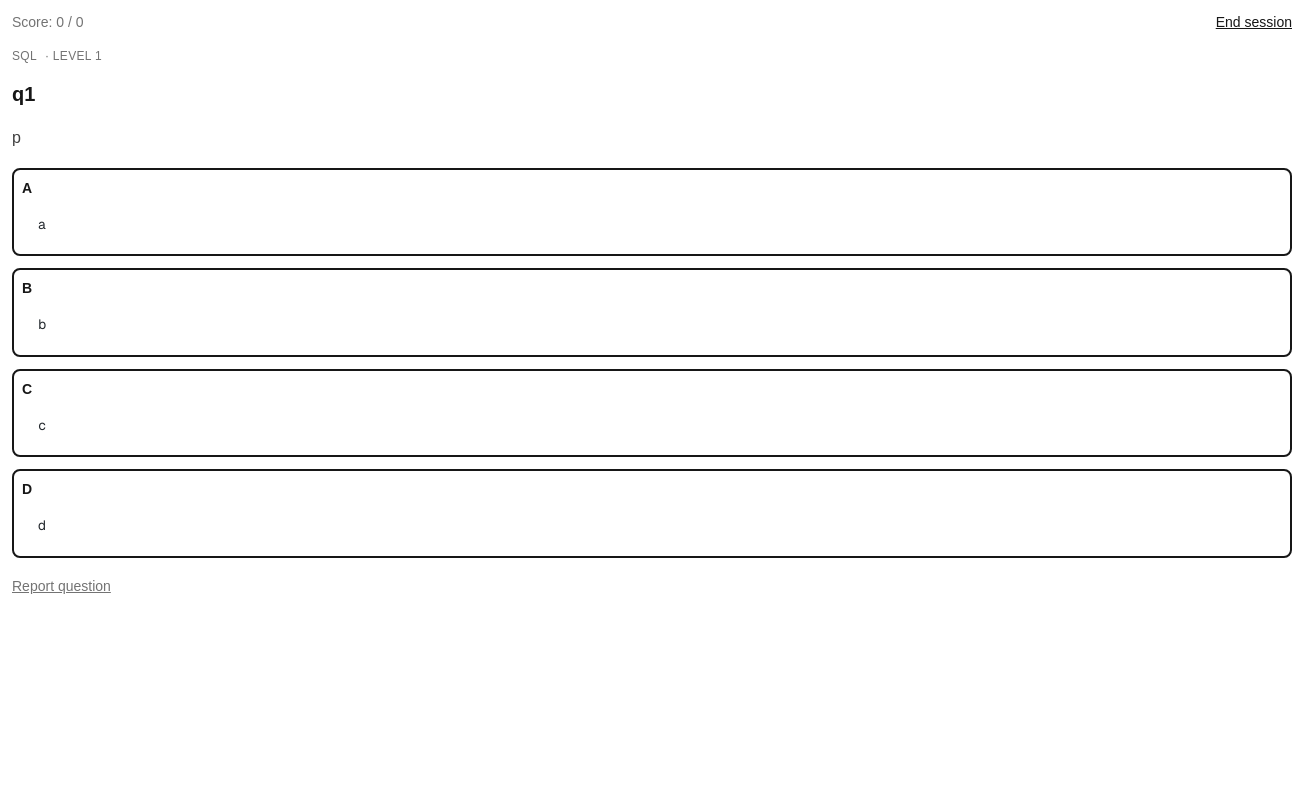
it: shows retry on submit failure and recovers
Expected: the heading "q1" is shown, [12,83,35,105]
Click the button named "Option": (652, 212) [12,168,1292,256]
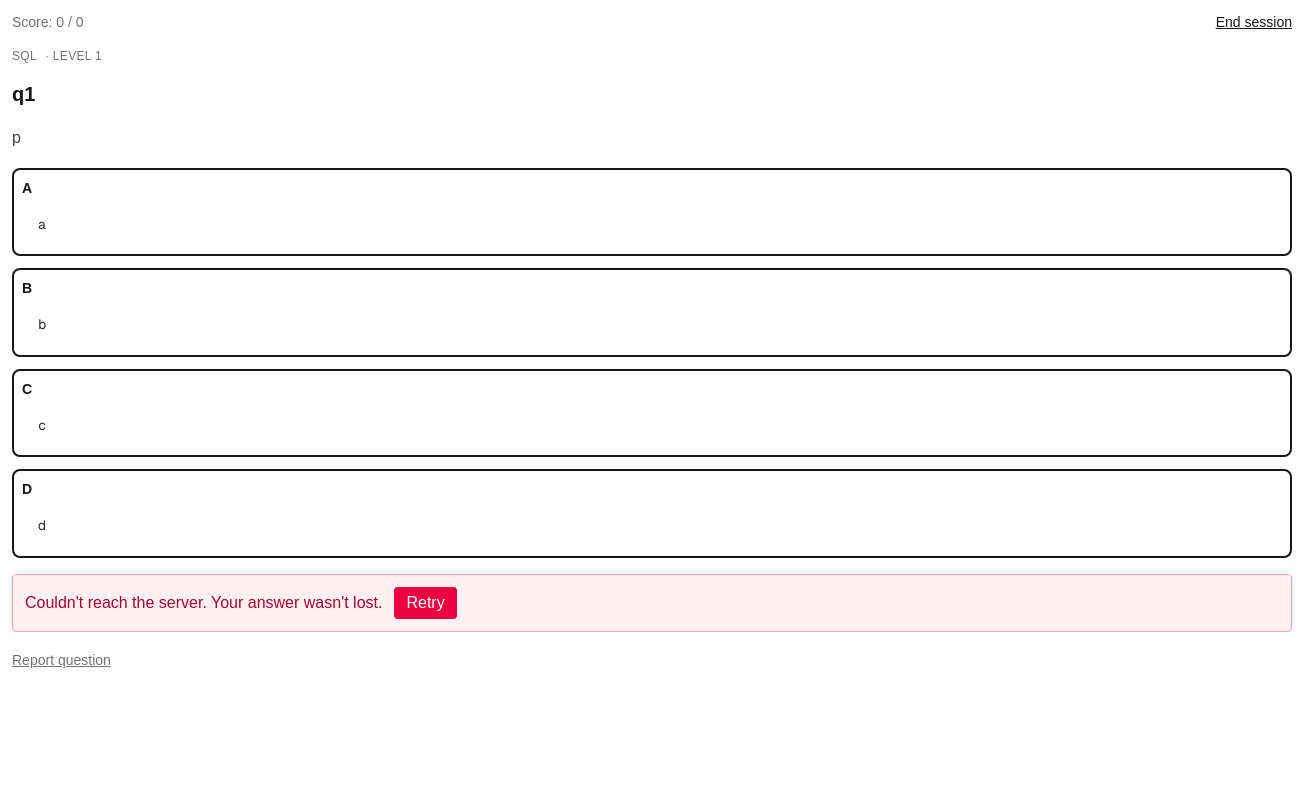
Click the button "Retry": (426, 603) [394,587,457,619]
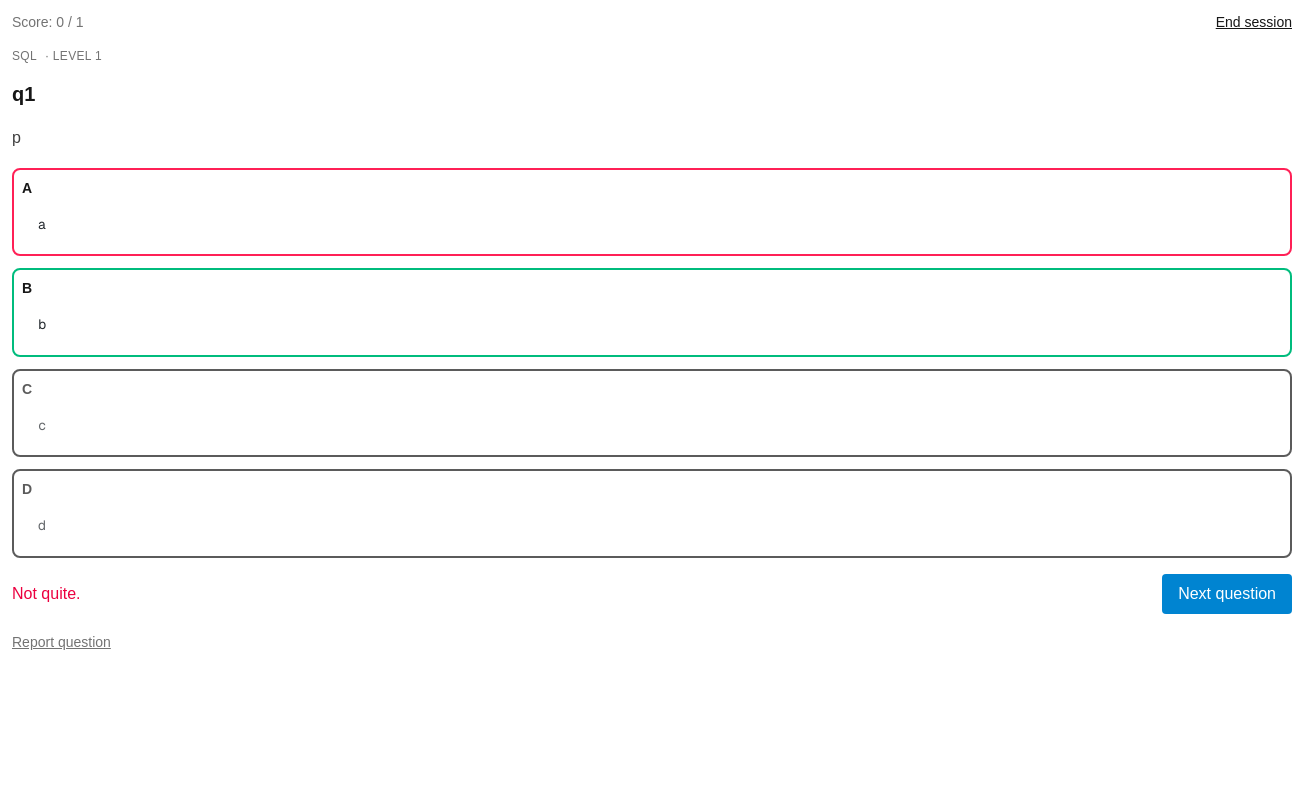
Now the text "Score: 0 / 1" is shown, box [12,12,84,32]
